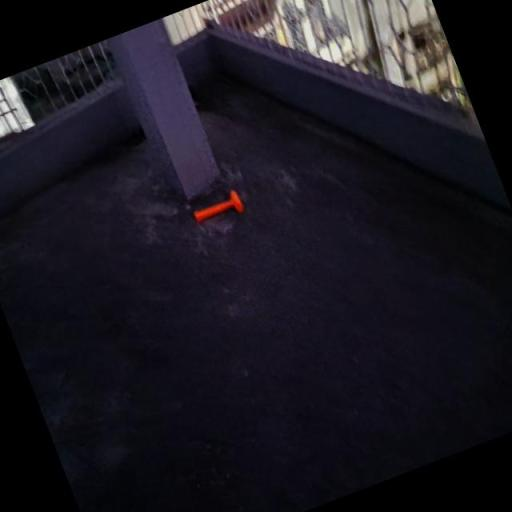mallet: (190, 190, 247, 230)
